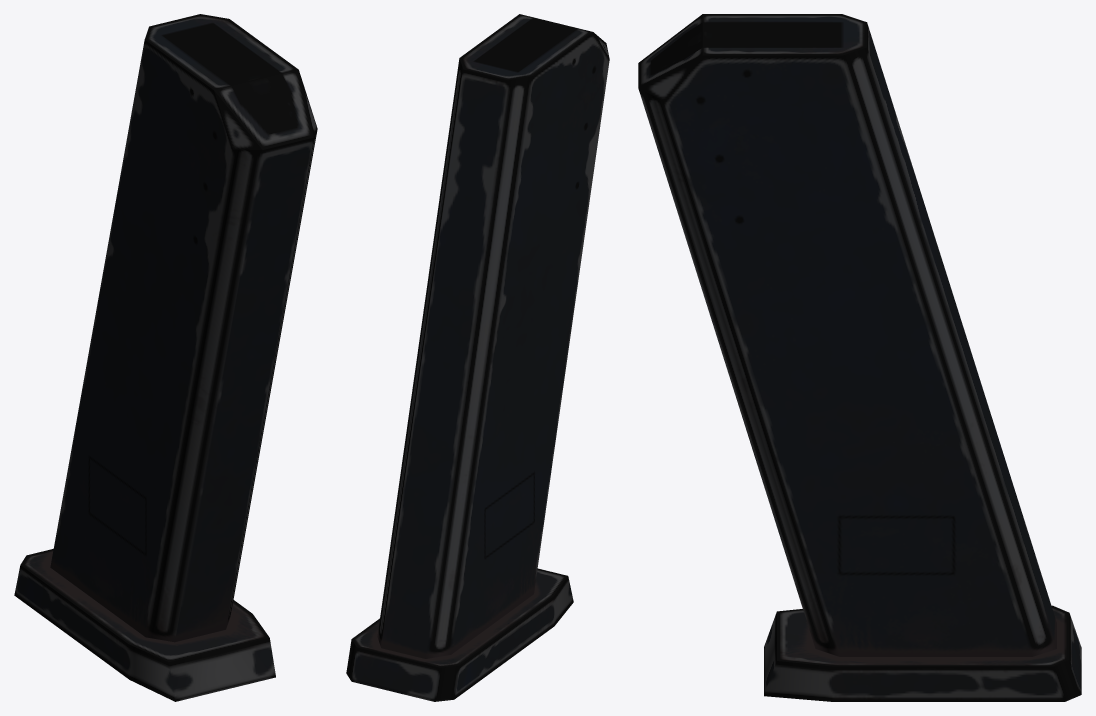
File: USP-s_Mag.fbx
3 renders of one model, left to right at view 1: azimuth 30°, elevation 25°; view 2: azimuth 150°, elevation 25°; view 3: azimuth 270°, elevation 25°, orthographic. The views are drawn at different scales.
Parts seen in each view (by area): view 1: USP-s_Mag; view 2: USP-s_Mag; view 3: USP-s_Mag.
Part boxes in pixels (left/top/right/bottom): USP-s_Mag: left=14, top=14, right=317, bottom=701; USP-s_Mag: left=346, top=14, right=609, bottom=701; USP-s_Mag: left=638, top=14, right=1081, bottom=701.
Bounding box in the file's own units: 2.57 × 12.49 × 7.88.
